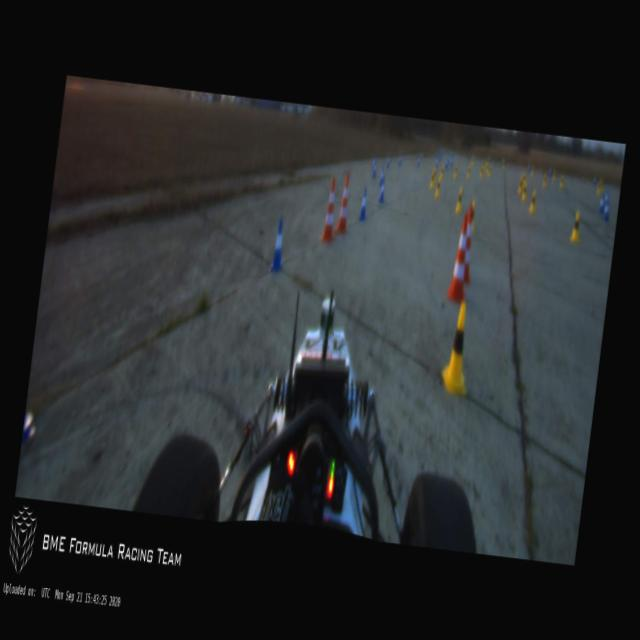blue_cone: (267, 220, 287, 274), (358, 187, 369, 222), (378, 178, 386, 203), (602, 198, 610, 220), (598, 192, 606, 214), (550, 166, 557, 184), (378, 166, 384, 185), (371, 161, 377, 178), (386, 152, 391, 168), (416, 153, 420, 169), (398, 154, 402, 166)
large_orange_cone: (448, 211, 474, 300), (458, 203, 480, 284), (320, 177, 340, 241), (335, 172, 354, 235)
yellow_cone: (441, 304, 476, 398), (570, 210, 582, 242), (468, 200, 478, 230), (455, 186, 464, 212), (529, 188, 537, 213), (516, 173, 524, 194), (434, 178, 442, 198), (429, 168, 436, 188), (521, 181, 528, 201), (465, 163, 471, 181), (541, 172, 547, 189), (558, 173, 564, 190), (453, 162, 459, 178), (478, 163, 484, 179), (440, 165, 444, 178), (487, 164, 491, 177)
